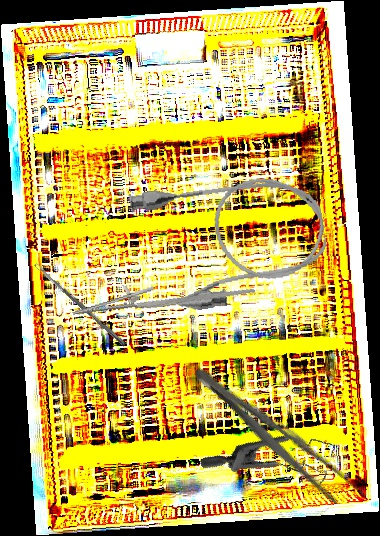Cannula: (117, 165, 334, 320)
Dressing Forceps: (184, 357, 370, 518)
Needle Holder: (68, 254, 256, 337)
Speculum: (198, 394, 349, 533)
Surgical Spoon: (33, 262, 128, 347)
